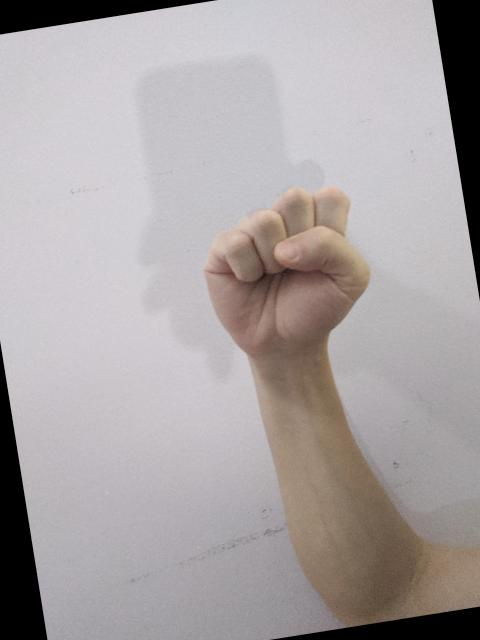S: (188, 174, 386, 370)
